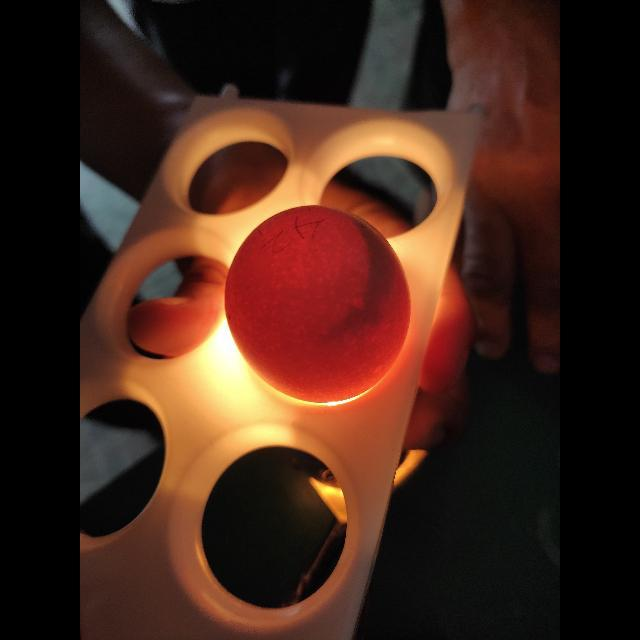Infertile: (224, 204, 413, 406)
